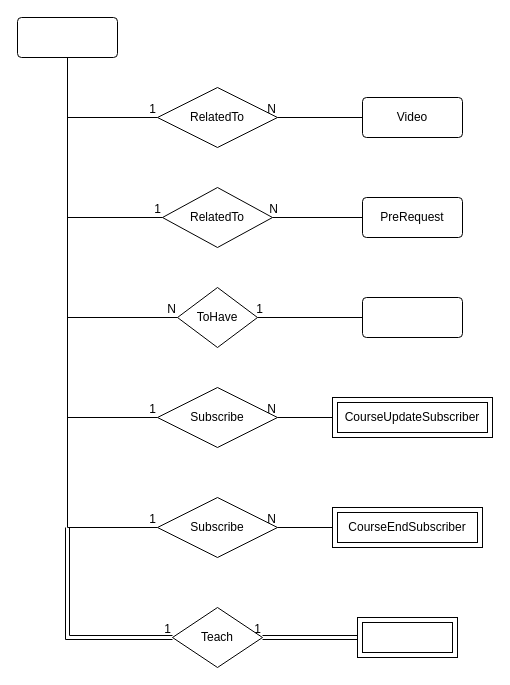
Image size: 510x685. Some labels were removed from this diagram. The centre of each missing label's shape, as x and y in pixels:
Category: point (412, 317)
Course: point (67, 37)
Teacher: point (407, 637)
